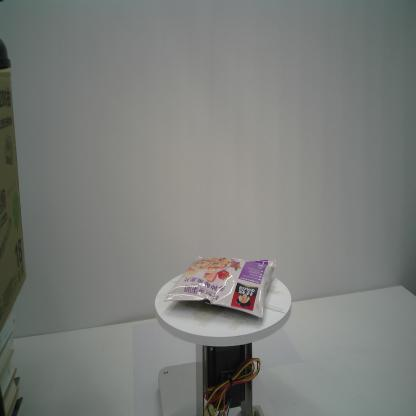Instant Drink: (164, 254, 277, 320)
